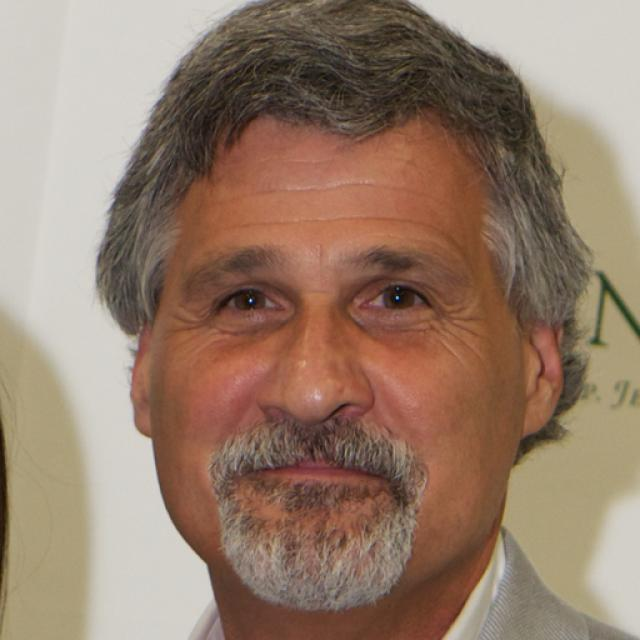Dark Circle: (350, 312, 442, 345), (216, 309, 297, 338)
Wrinkle: (221, 212, 466, 264), (218, 176, 466, 217)
